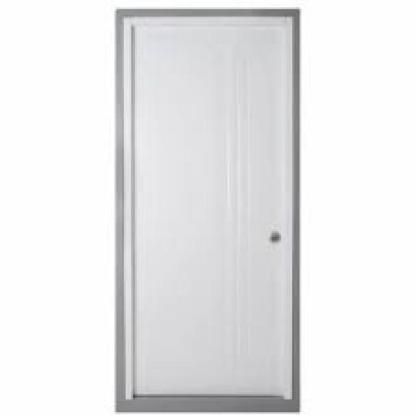door: (104, 5, 309, 413)
